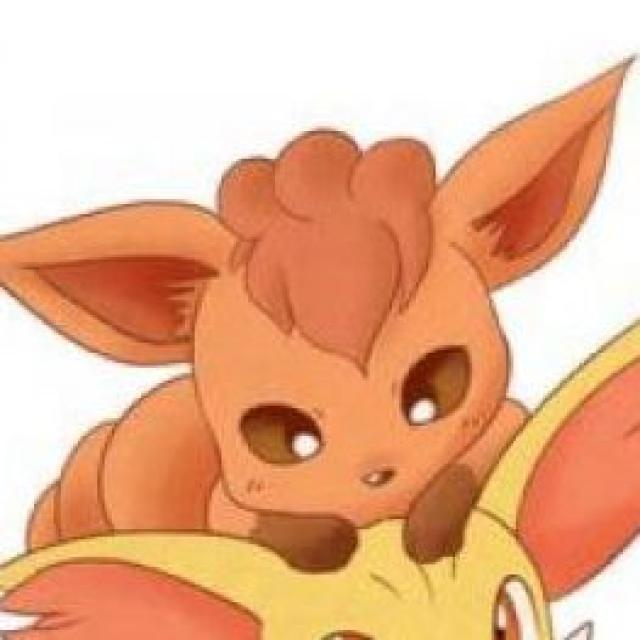Vulpix: (99, 132, 605, 536)
